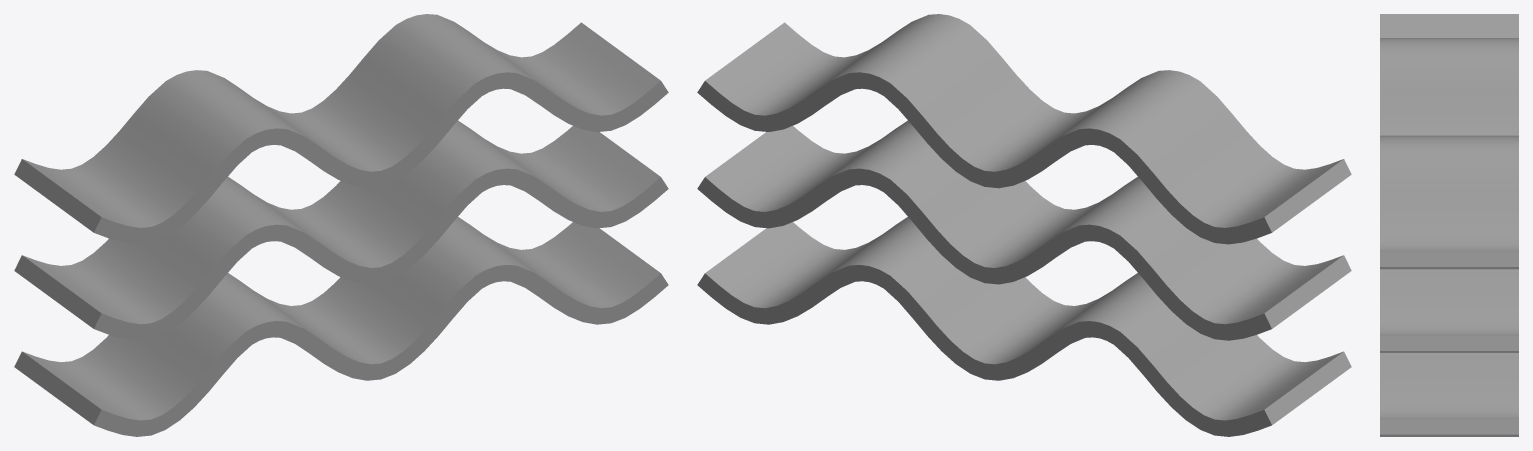
The model's file is fog.gltf.
The picture shows the model from 3 angles, left to right: view 1: azimuth 30°, elevation 25°; view 2: azimuth 150°, elevation 25°; view 3: azimuth 270°, elevation 25°; orthographic projection. The views are drawn at different scales.
Parts seen in each view (by area): view 1: Plane.188; view 2: Plane.188; view 3: Plane.188.
Boxes of the visible parts, x1,y1,x2,y2 form: Plane.188: (14, 14, 668, 436); Plane.188: (697, 14, 1351, 436); Plane.188: (1380, 14, 1518, 436).
Bounding box in the file's own units: 2.25 × 1.04 × 0.54.
1 material, 1 textured.
